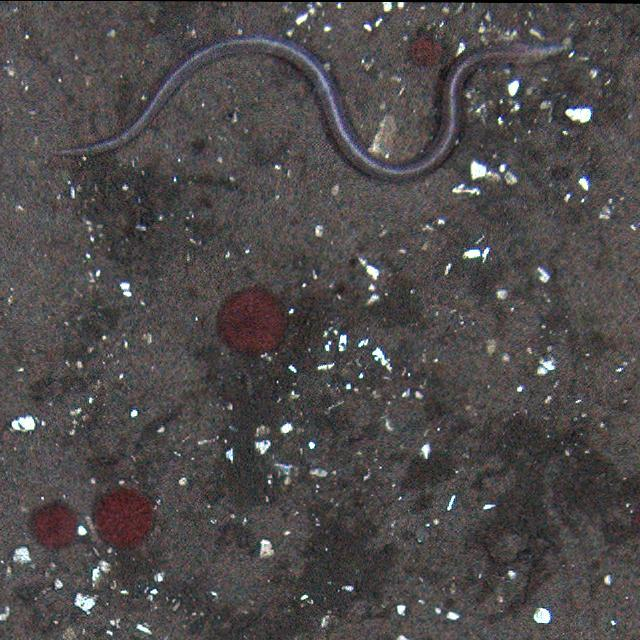eel: (88, 34, 570, 185)
